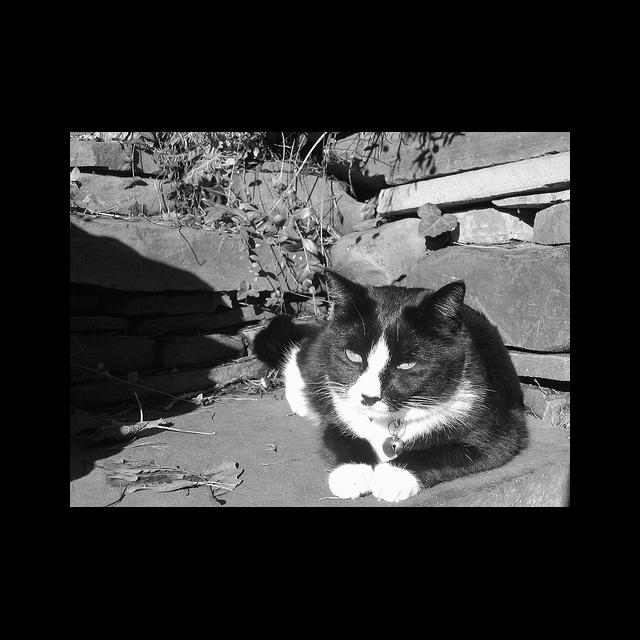animals: (327, 272, 461, 406)
